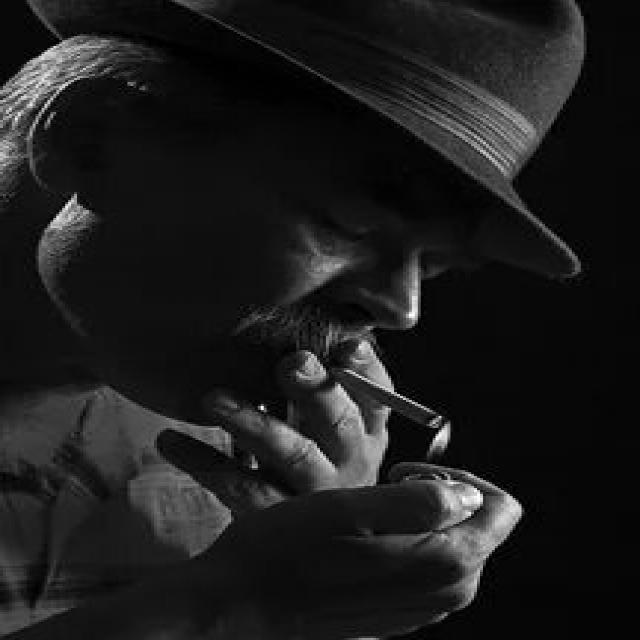cigarette: (320, 358, 447, 432)
